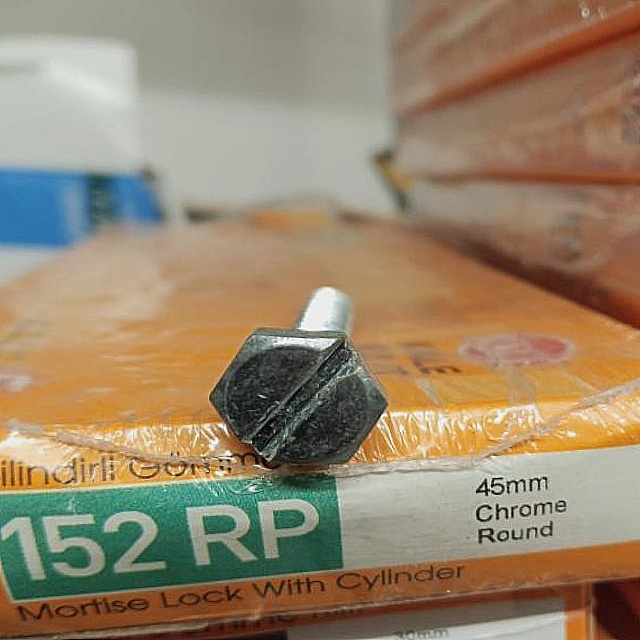duz: (208, 322, 390, 471)
